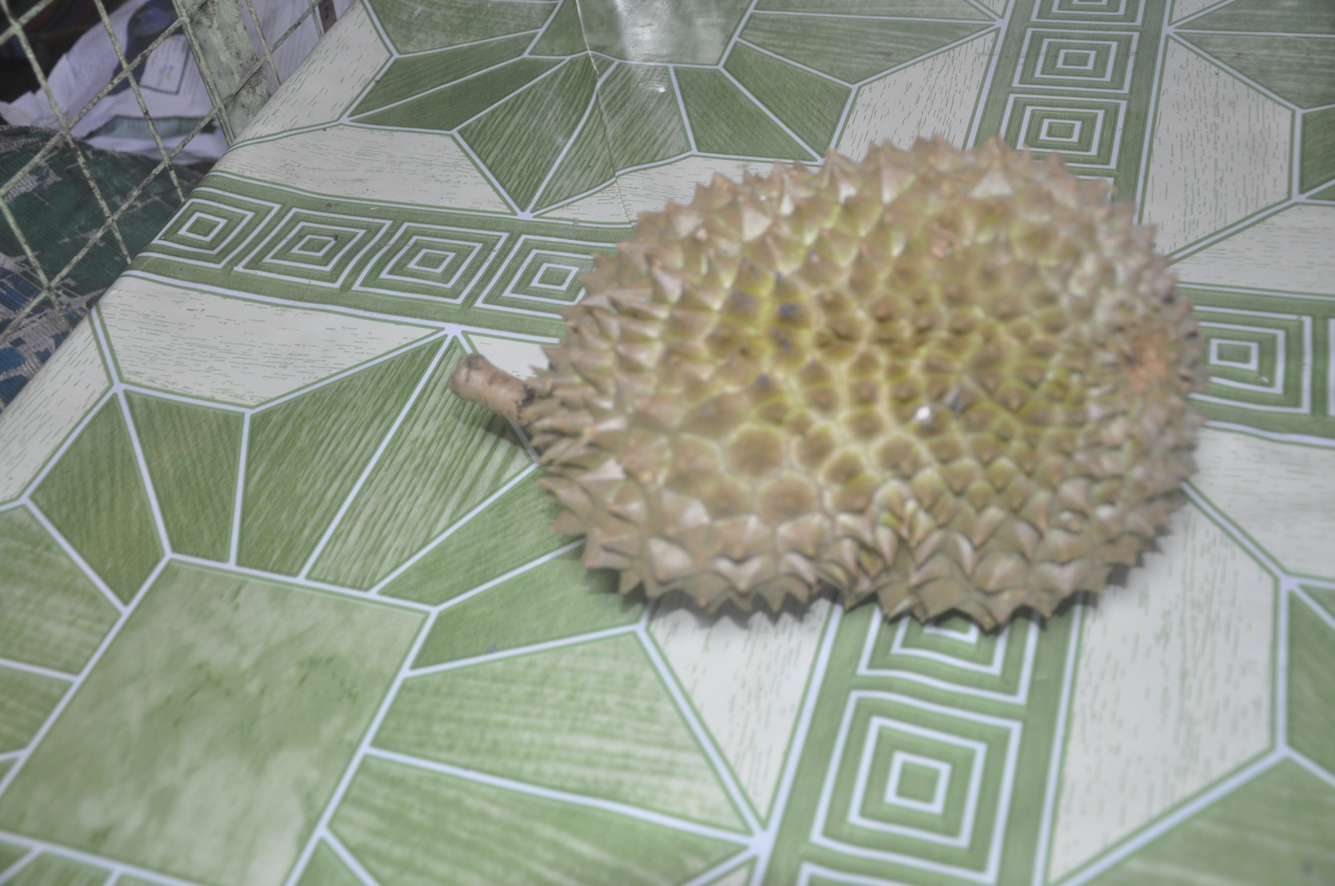mature: (451, 138, 1205, 629)
